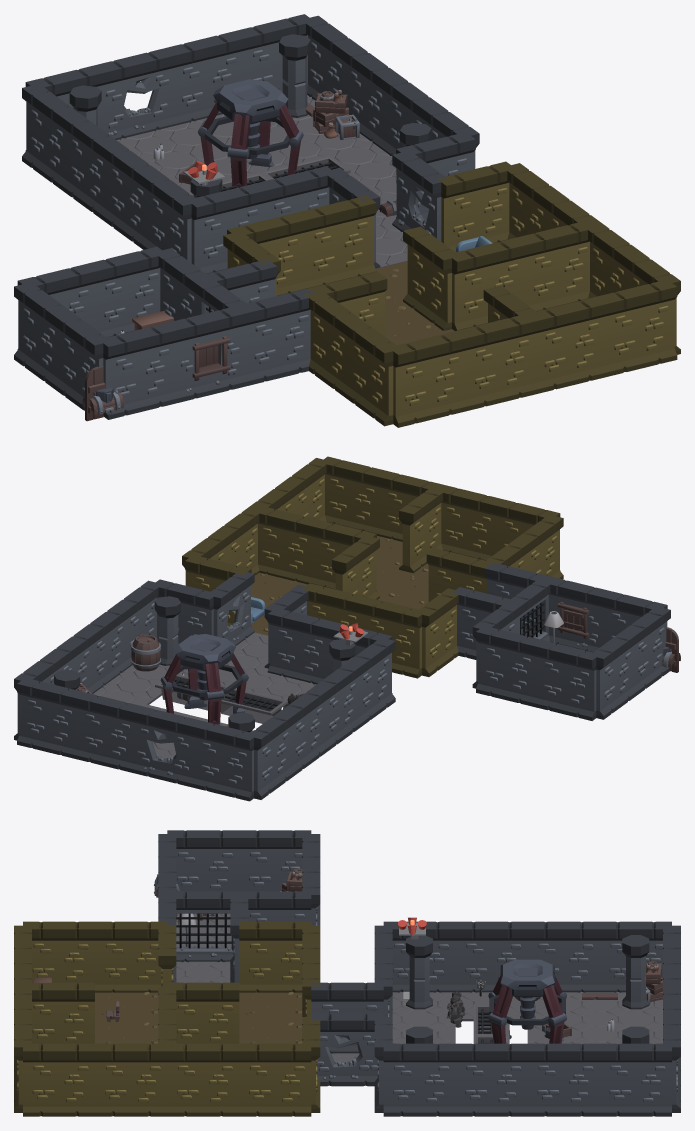
File: facility_three_zone.glb
3 views of the same model, one above another, from view 1: azimuth 30°, elevation 25°; view 2: azimuth 150°, elevation 25°; view 3: azimuth 270°, elevation 25° (orthographic). The views are drawn at different scales.
Parts seen in each view (by area): view 1: drill_structure.001, wall.017, wall.018, wall_window_closed.001, wall.019, wall.020, wall.002, wall.022, wall.008, wall_broken.002, wall.028, wall.023 (+50 smaller); view 2: drill_structure.001, wall.004, wall.033, wall.034, wall.035, wall.005, wall.031, wall_broken.002, wall.028, wall.020, wall.018, wall_window_closed.001 (+46 smaller); view 3: wall.014, wall.042, wall.016, wall.041, wall.015, wall.040, wall.013, wall.043, wall.011, wall.012, drill_structure.001, wall.038 (+56 smaller).
Part boxes in pixels (<box>): drill_structure.001: <box>198,79,303,187</box>; wall.017: <box>388,330,467,427</box>; wall.018: <box>458,313,537,410</box>; wall_window_closed.001: <box>168,308,247,402</box>; wall.019: <box>530,296,607,393</box>; wall.020: <box>598,281,677,376</box>; wall.002: <box>99,322,177,419</box>; wall.022: <box>297,195,376,288</box>; wall.008: <box>238,288,316,385</box>; wall_broken.002: <box>95,48,175,139</box>; wall.028: <box>517,222,596,311</box>; wall.023: <box>437,161,515,251</box>; drill_structure.001: <box>160,634,248,725</box>; wall.004: <box>534,640,600,720</box>; wall.033: <box>191,720,255,801</box>; wall.034: <box>75,692,141,772</box>; wall.035: <box>17,677,82,758</box>; wall.005: <box>476,627,541,706</box>; wall.031: <box>267,609,333,684</box>; wall_broken.002: <box>133,706,199,787</box>; wall.028: <box>253,506,318,584</box>; wall.020: <box>320,456,385,535</box>; wall.018: <box>436,485,501,560</box>; wall_window_closed.001: <box>543,576,609,652</box>; wall.014: <box>95,1043,167,1116</box>; wall.042: <box>527,1043,599,1116</box>; wall.016: <box>239,1043,311,1116</box>; wall.041: <box>455,1043,527,1116</box>; wall.015: <box>167,1043,239,1116</box>; wall.040: <box>383,1043,455,1116</box>; wall.013: <box>23,1043,94,1116</box>; wall.043: <box>600,1043,671,1116</box>; wall.011: <box>95,921,167,992</box>; wall.012: <box>239,921,311,992</box>; drill_structure.001: <box>488,959,566,1043</box>; wall.038: <box>527,921,599,992</box>.
Bounding box in the file's own units: 29.5 × 5.06 × 37.
Materials: 29 (24 with a texture image).
